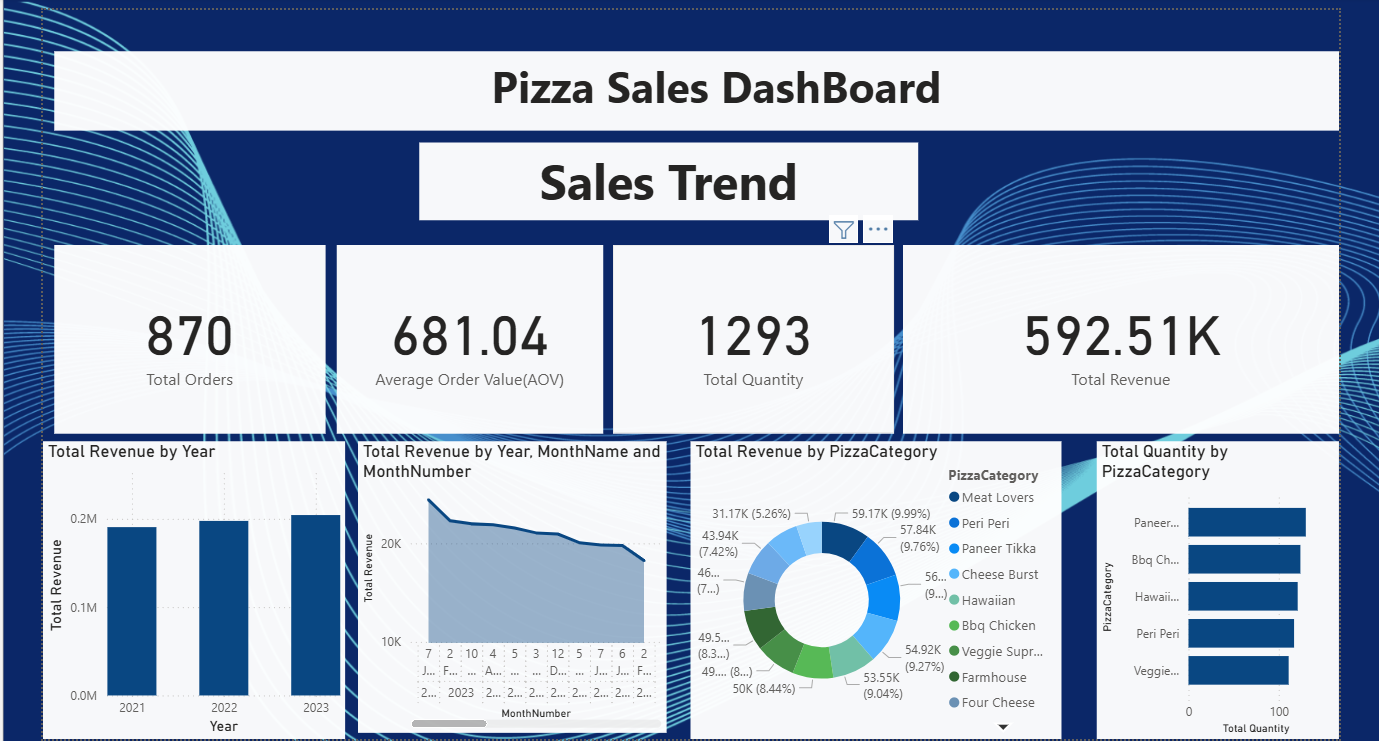

Layout of this report page (visuals, bound fields, positions):
{"tool":"powerbi","page":{"name":"Page 1","canvas":[1280,720],"ordinal":0},"visuals":[{"type":"textbox","box":[371.9,130.4,492.6,76.8],"z":0},{"type":"card","fields":{"Values":["pizza_sales_messy_1000.Total Orders"]},"box":[11,231.9,304.6,186.6],"z":1000},{"type":"card","fields":{"Values":["pizza_sales_messy_1000.AOV"]},"box":[328,231.9,270.3,186.6],"z":2000},{"type":"card","fields":{"Values":["pizza_sales_messy_1000.Total Quantity"]},"box":[618.9,231.9,289.5,186.6],"z":3000},{"type":"card","fields":{"Values":["pizza_sales_messy_1000.Total Revenue"]},"box":[918,231.9,362.3,186.6],"z":4000},{"type":"columnChart","fields":{"Category":["DateTable.Year"],"Y":["pizza_sales_messy_1000.Total Revenue"]},"box":[0,425.4,266.2,295],"z":5000},{"type":"stackedAreaChart","fields":{"Category":["DateTable.Year","DateTable.MonthName","DateTable.MonthNumber"],"Y":["pizza_sales_messy_1000.Total Revenue"]},"box":[311.5,425.4,304.6,288.2],"z":6000},{"type":"donutChart","fields":{"Category":["pizza_sales_messy_1000.PizzaCategory"],"Y":["pizza_sales_messy_1000.Total Revenue"]},"box":[618.9,425.4,387,295],"z":7000},{"type":"clusteredBarChart","fields":{"Category":["pizza_sales_messy_1000.PizzaCategory"],"Y":["pizza_sales_messy_1000.Total Quantity"]},"box":[1040.1,425.4,226.4,295],"z":8000},{"type":"textbox","box":[11,41.2,1269.3,78.2],"z":8001}]}

Visuals, with their boxes in screenshot pixels (x1, y1, x2, y2):
textbox: (x1=416, y1=139, x2=915, y2=217)
card - pizza_sales_messy_1000.Total Orders: (x1=51, y1=242, x2=359, y2=431)
card - pizza_sales_messy_1000.AOV: (x1=372, y1=242, x2=646, y2=431)
card - pizza_sales_messy_1000.Total Quantity: (x1=667, y1=242, x2=960, y2=431)
card - pizza_sales_messy_1000.Total Revenue: (x1=970, y1=242, x2=1337, y2=431)
columnChart - DateTable.Year x pizza_sales_messy_1000.Total Revenue: (x1=40, y1=438, x2=309, y2=737)
stackedAreaChart - DateTable.Year x DateTable.MonthName: (x1=355, y1=438, x2=664, y2=730)
donutChart - pizza_sales_messy_1000.PizzaCategory x pizza_sales_messy_1000.Total Revenue: (x1=667, y1=438, x2=1059, y2=737)
clusteredBarChart - pizza_sales_messy_1000.PizzaCategory x pizza_sales_messy_1000.Total Quantity: (x1=1093, y1=438, x2=1323, y2=737)
textbox: (x1=51, y1=49, x2=1337, y2=128)
